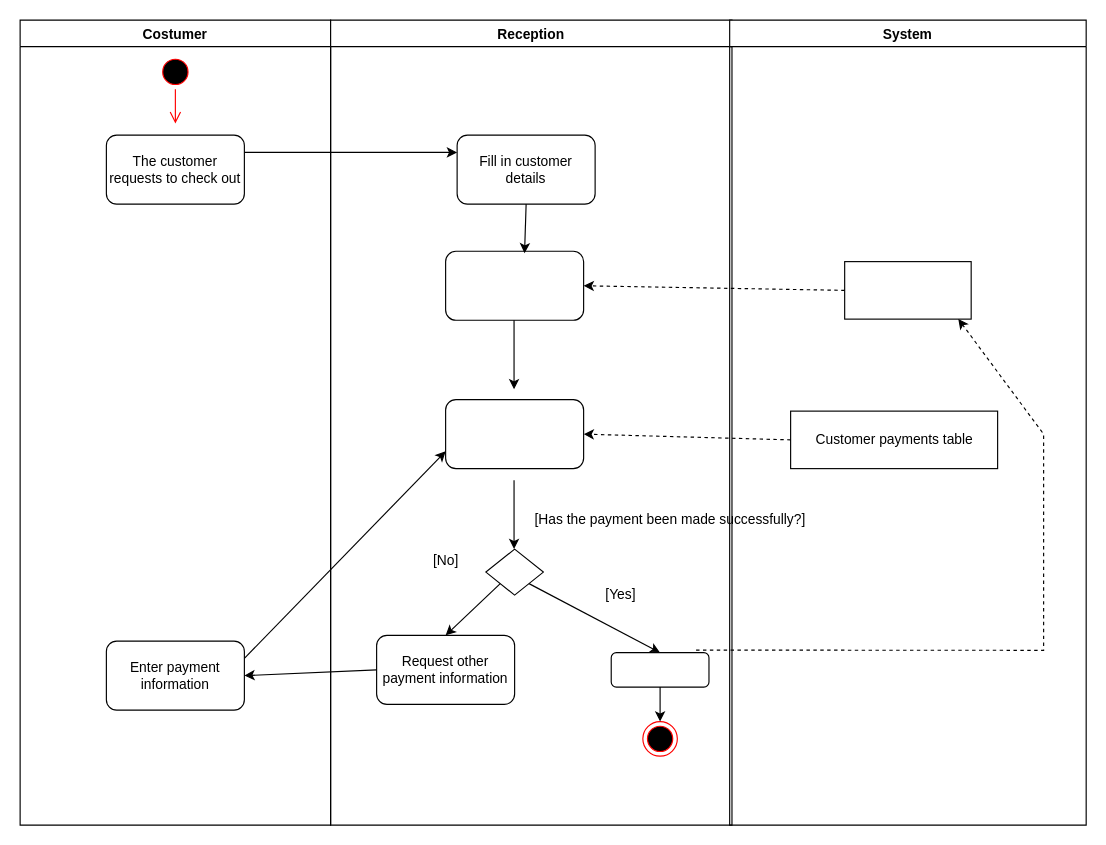
The diagram is 1106 pixels wide and 845 high, and some of its shapes have lost their labels. The centre of each missing label's shape, as x and y in pixels:
charge the customer: the point at 514,433
cheack out: the point at 659,669
Finds the customer's room: the point at 514,285
rooms table: the point at 907,289
